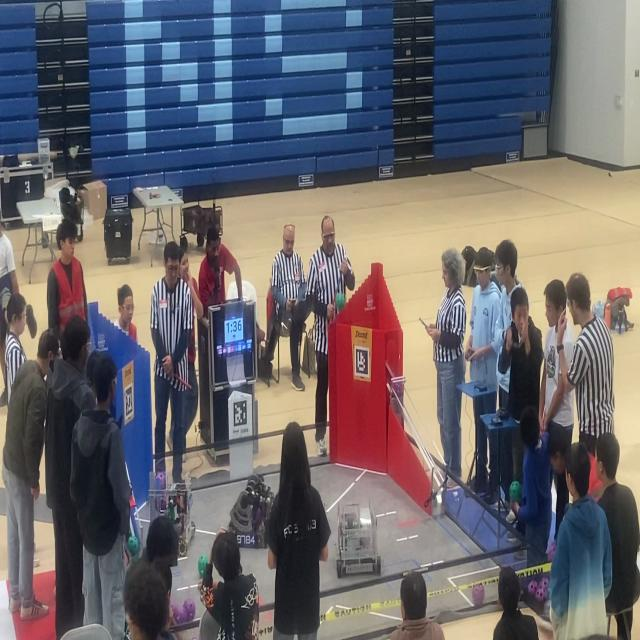artifact_green: (173, 604, 187, 625), (183, 599, 195, 621), (510, 481, 521, 503), (128, 536, 139, 557), (198, 555, 208, 578), (335, 293, 345, 312), (179, 537, 187, 557), (528, 580, 537, 595)
artifact_purple: (472, 585, 484, 606), (184, 599, 195, 621), (174, 606, 186, 624), (155, 494, 166, 512), (171, 604, 181, 623), (547, 541, 556, 561), (156, 472, 166, 490), (536, 587, 547, 602), (528, 580, 537, 594), (540, 577, 549, 589)
